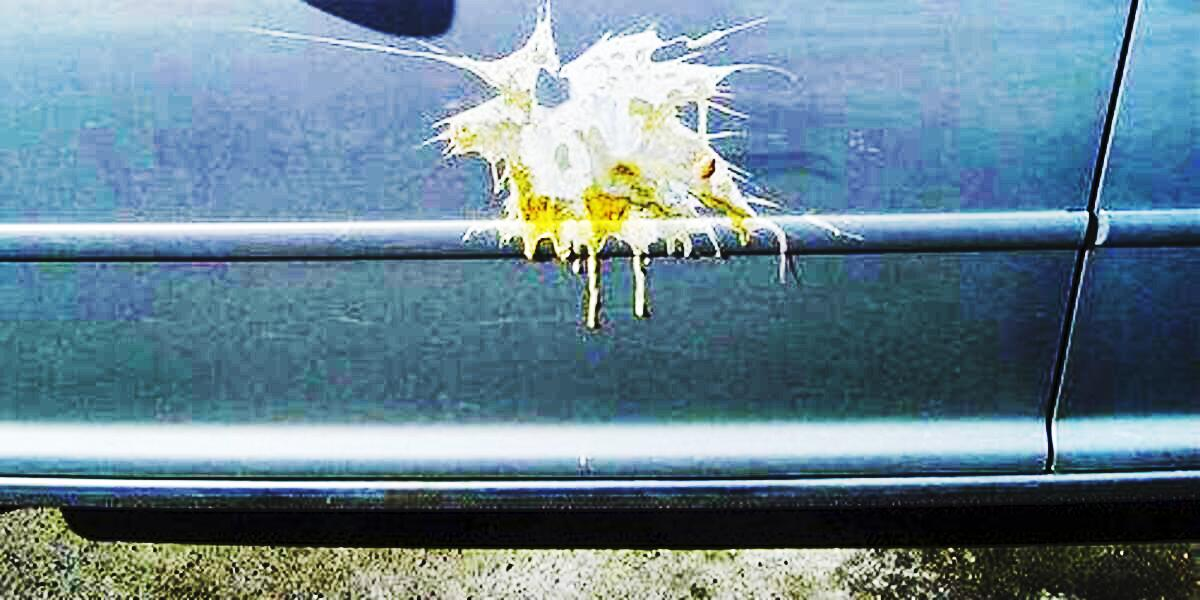Bird Poop: (425, 1, 785, 326)
